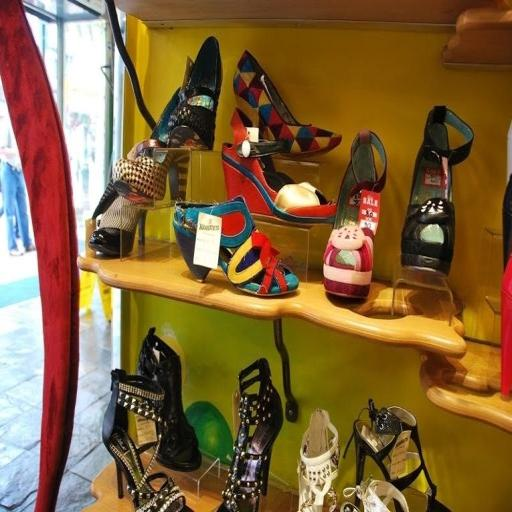heels: (89, 36, 222, 256), (222, 109, 336, 224), (172, 197, 298, 297), (102, 369, 190, 512), (401, 106, 473, 275), (343, 399, 449, 512), (233, 50, 341, 155), (323, 130, 387, 299), (218, 358, 283, 512), (137, 327, 202, 471), (168, 36, 222, 149), (297, 408, 340, 512), (88, 196, 144, 257), (340, 478, 409, 512)
